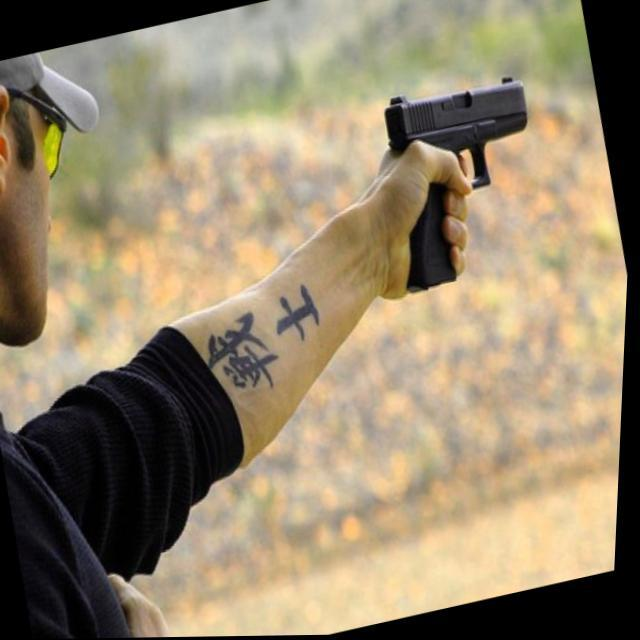weapon: (368, 66, 564, 296)
